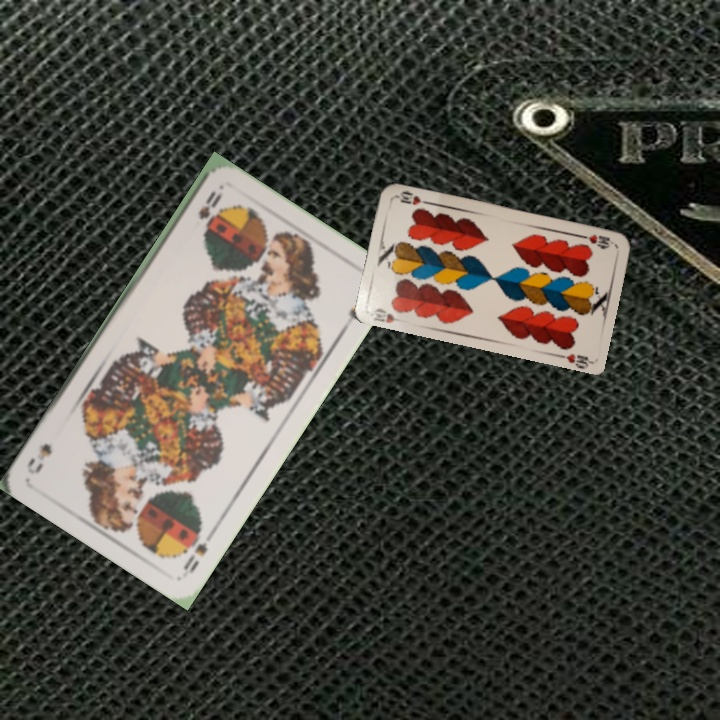H10: (369, 304, 407, 326), (577, 230, 613, 251)
SO: (179, 525, 210, 577), (194, 186, 225, 222)
